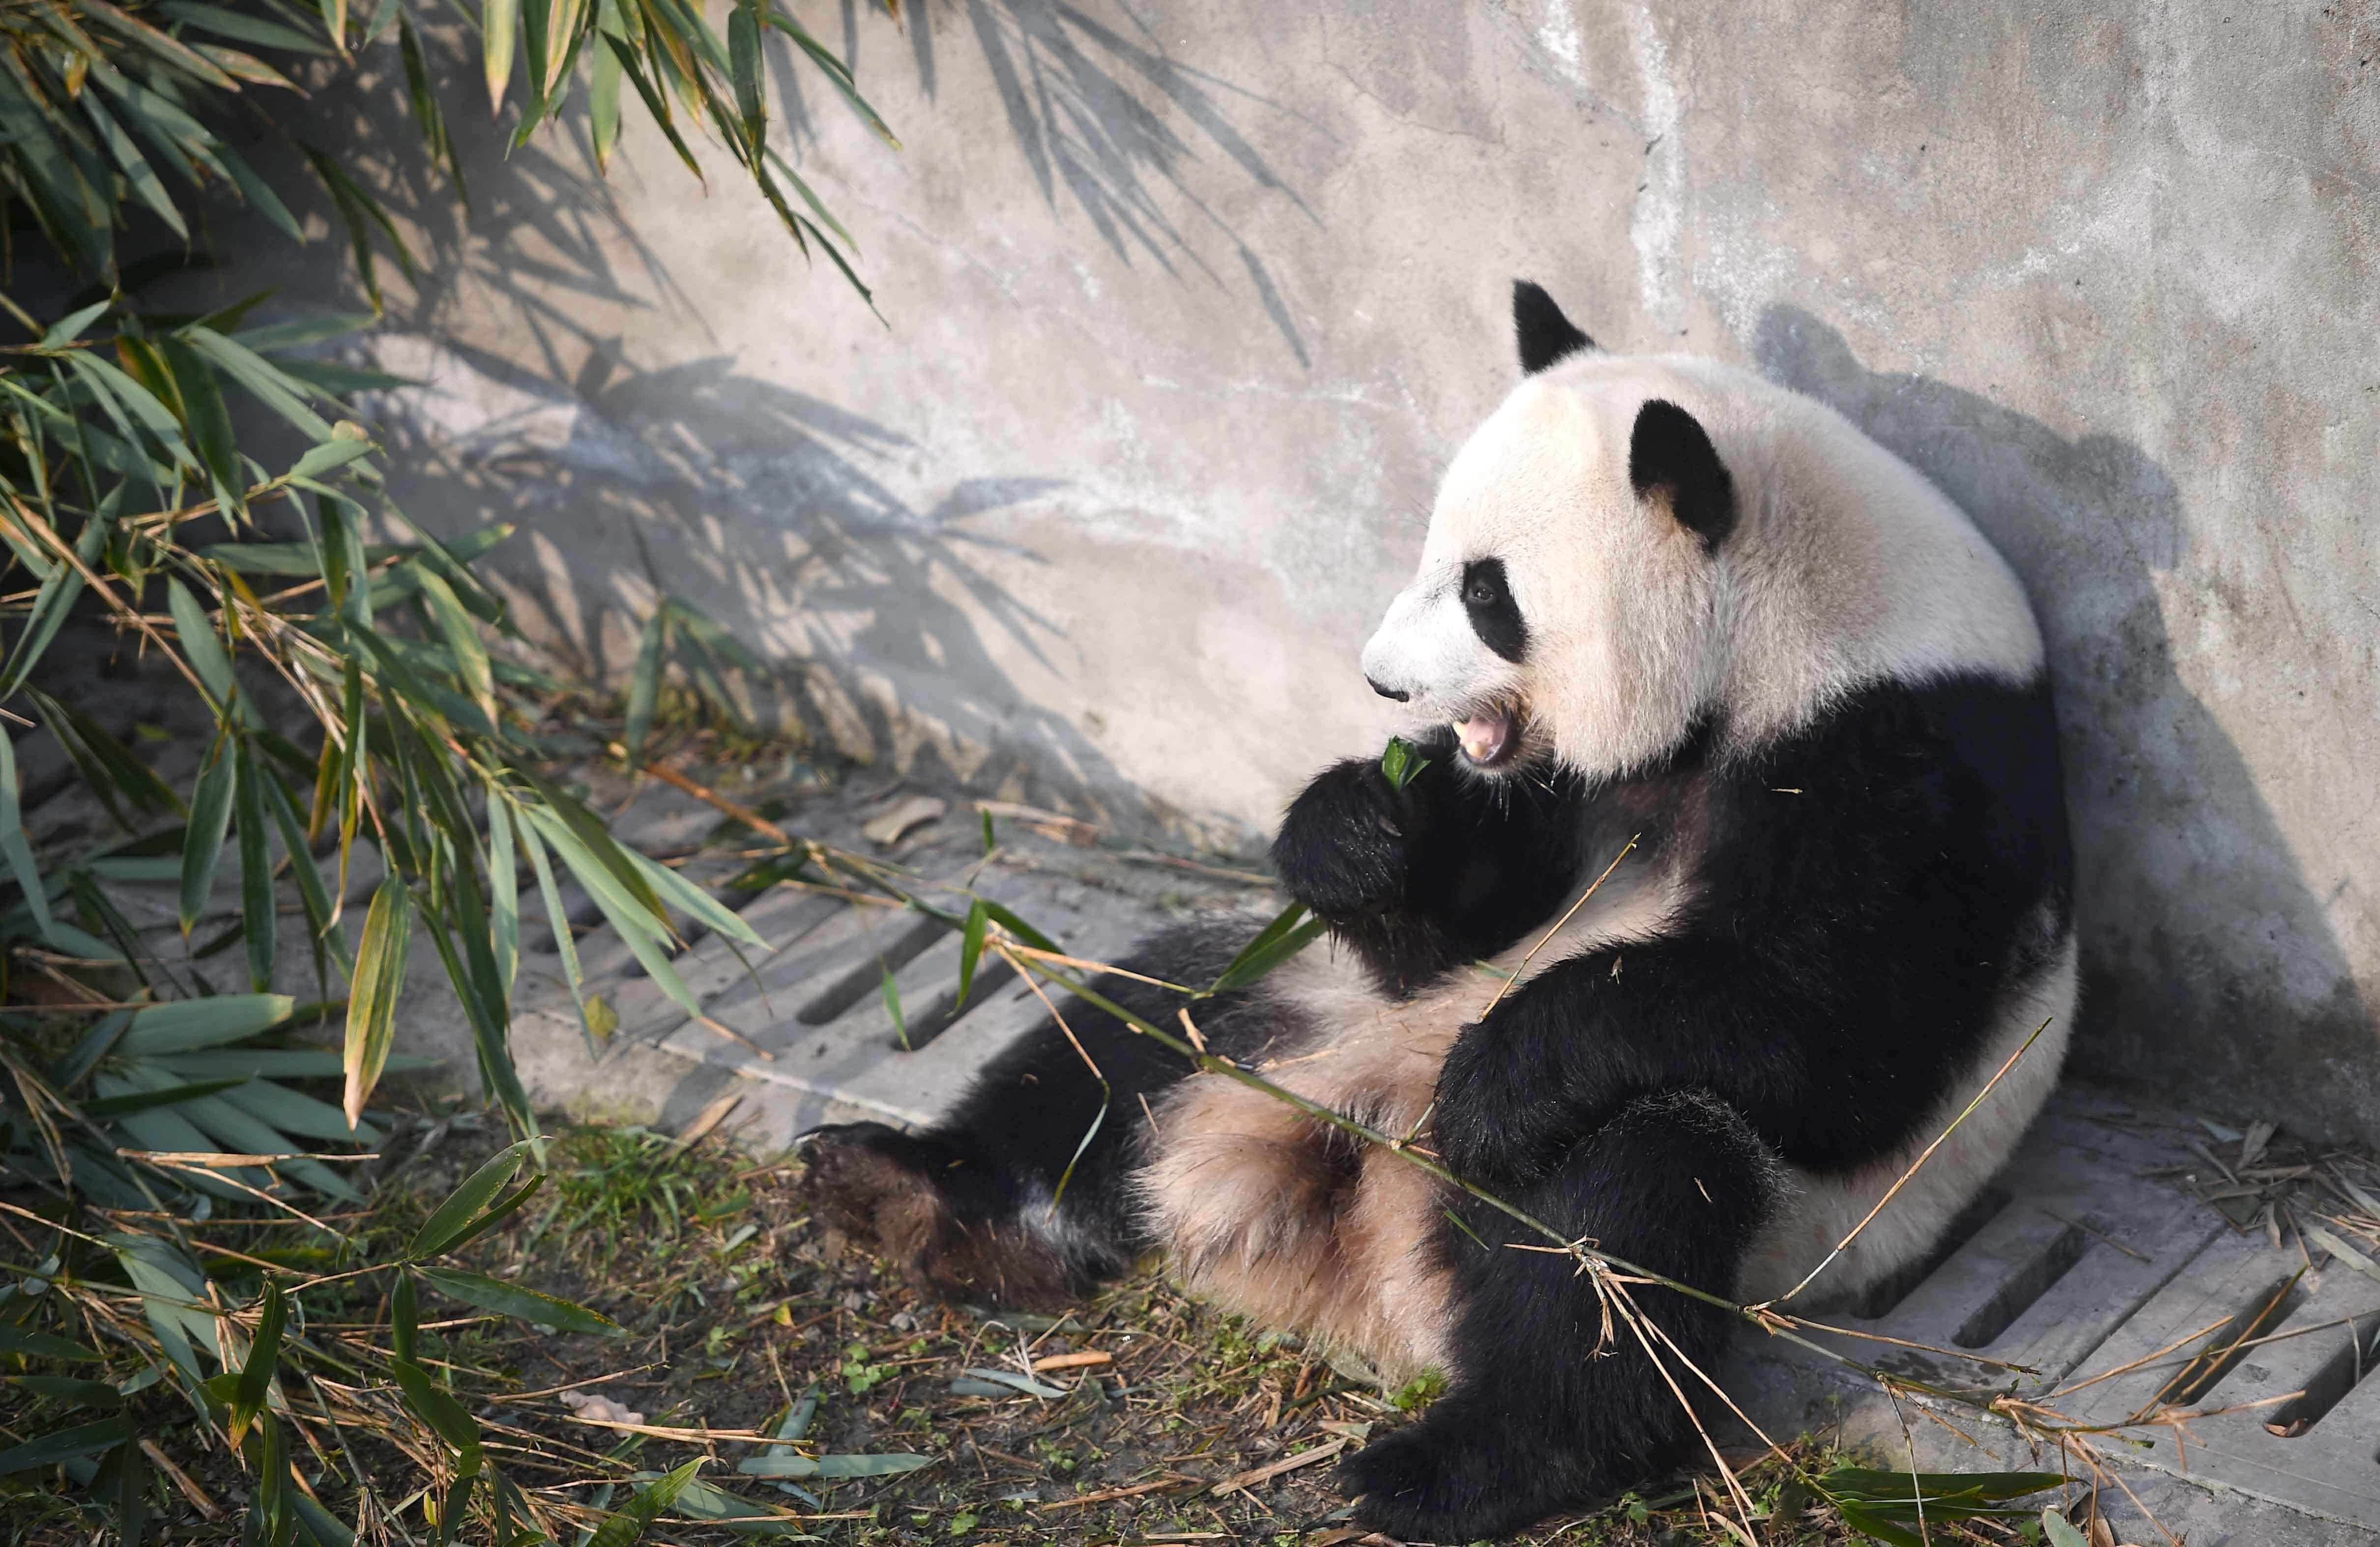panda: (850, 234, 2177, 1455)
